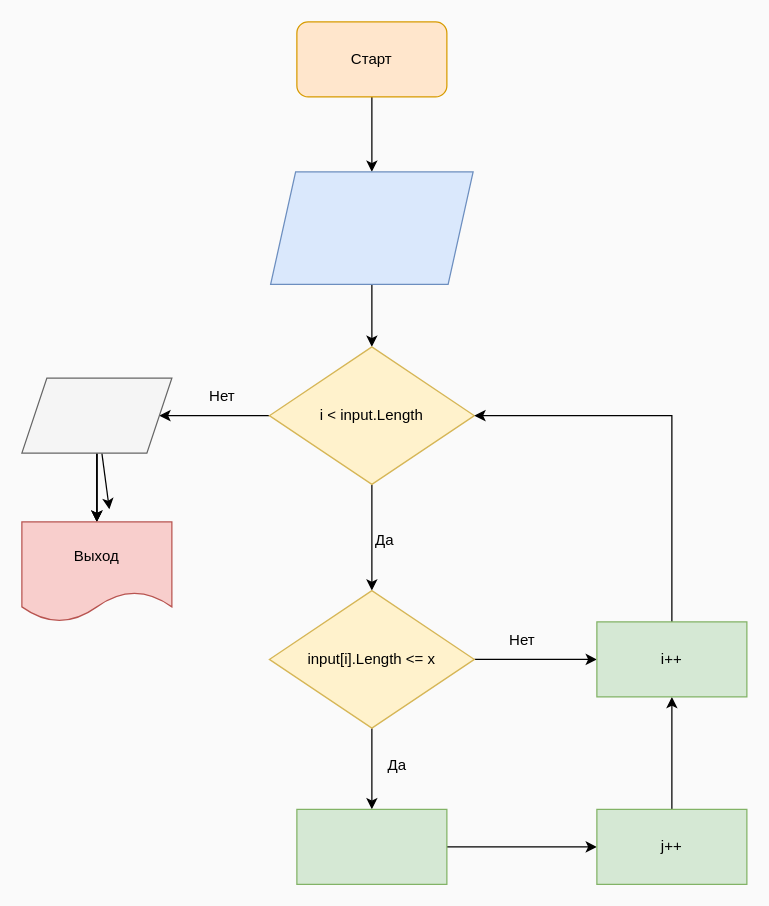
Image size: 769x906. Some labels were removed from this diagram. Each missing label, with the box of its shape:
output: (21, 377, 172, 453)
output[j] = input[i]: (296, 808, 447, 884)
string[] input, string[] output, int i = 0, int j = 0, int x = 3,: (269, 171, 473, 284)
